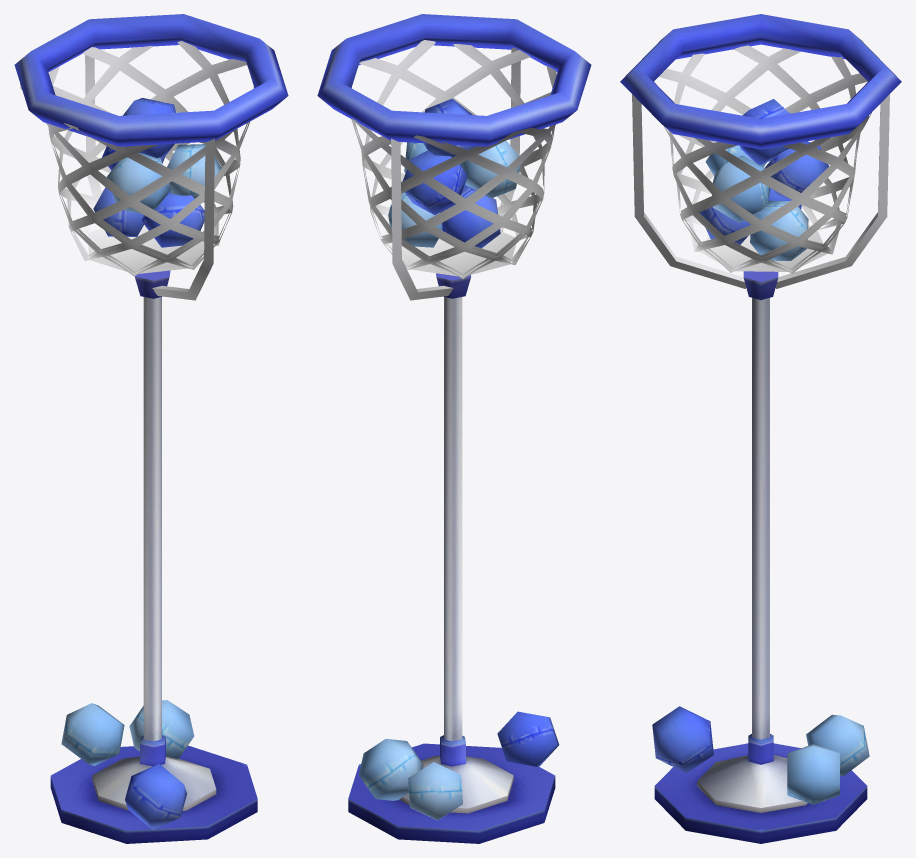
The model's file is my_autumnsports_01_beanball_02.glb.
3 renders of one model, left to right at view 1: azimuth 30°, elevation 25°; view 2: azimuth 150°, elevation 25°; view 3: azimuth 270°, elevation 25°, orthographic.
Visible parts, largest first — view 1: my_autumnsports_01_beanball_02; view 2: my_autumnsports_01_beanball_02; view 3: my_autumnsports_01_beanball_02.
Boxes of the visible parts, x1,y1,x2,y2 form: my_autumnsports_01_beanball_02: (14, 14, 288, 843); my_autumnsports_01_beanball_02: (317, 14, 591, 843); my_autumnsports_01_beanball_02: (620, 14, 901, 843).
Size of the model in its own units: 0.0055 by 0.0157 by 0.0055.
1 material, 1 textured.
